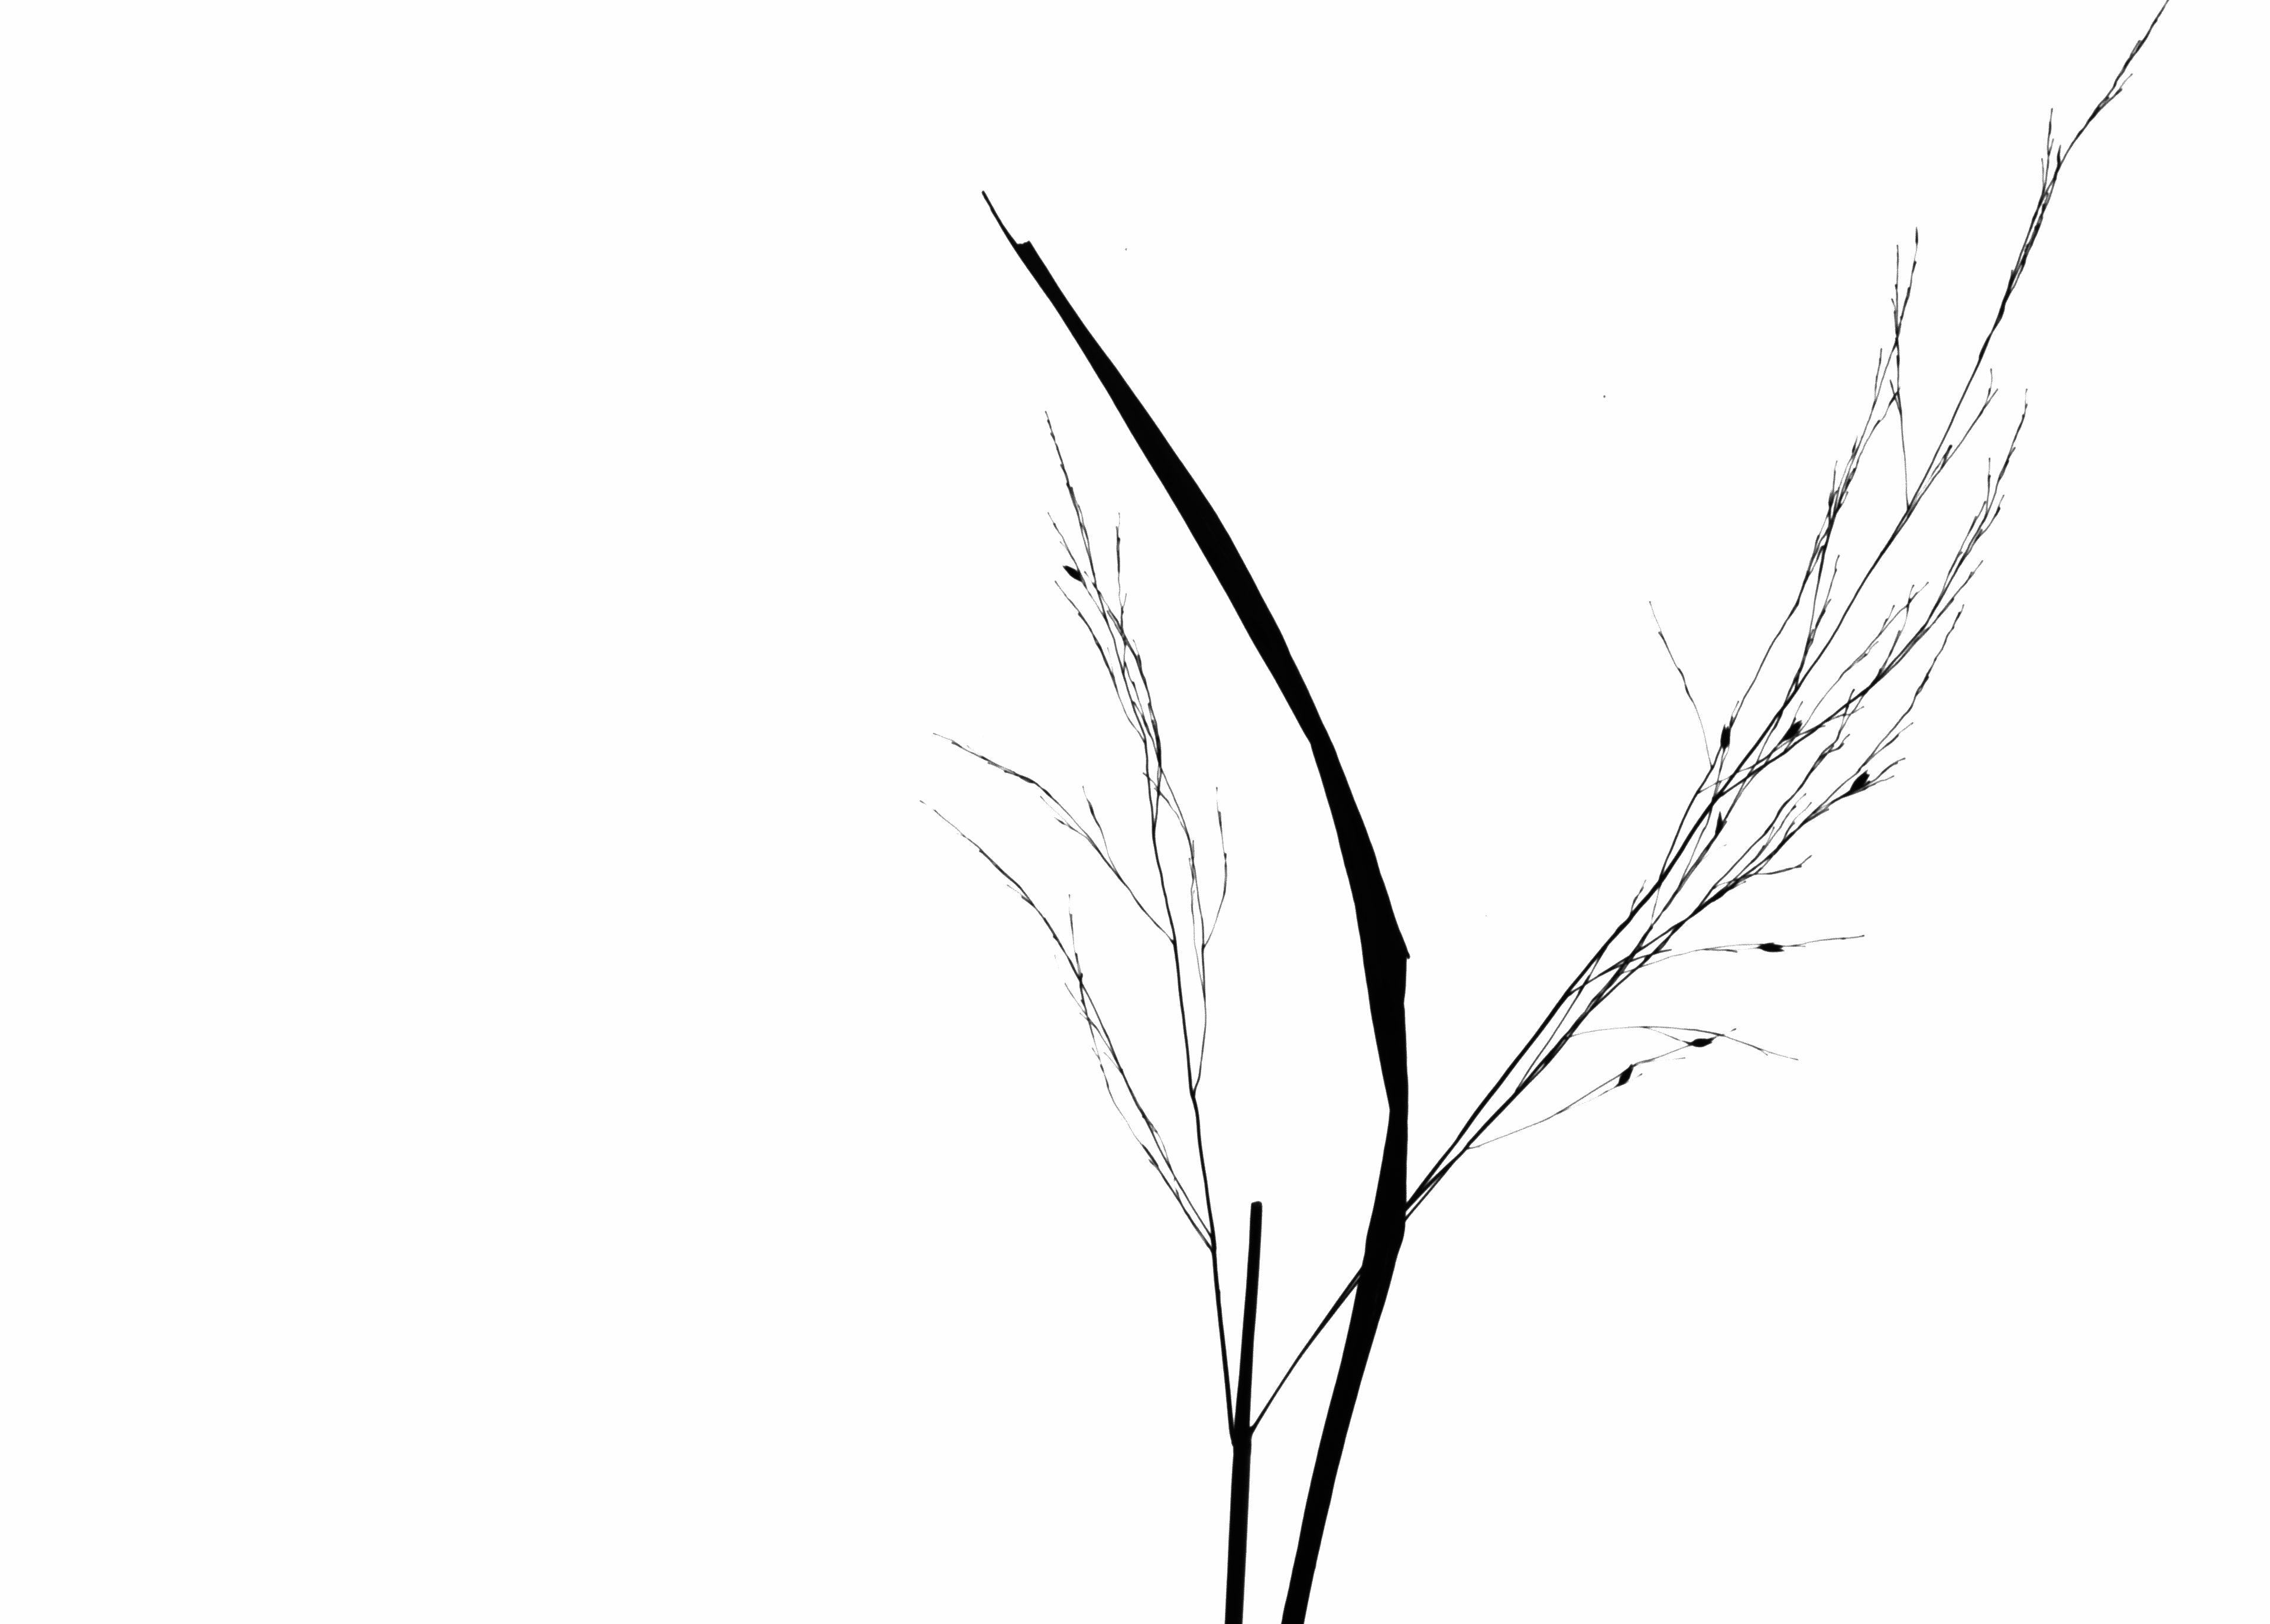seed: (1059, 557, 1092, 596), (1614, 1053, 1639, 1095), (1709, 719, 1735, 758), (1846, 763, 1871, 801), (1779, 717, 1806, 749), (1683, 1032, 1714, 1056), (1757, 937, 1786, 958), (1711, 808, 1727, 838)
